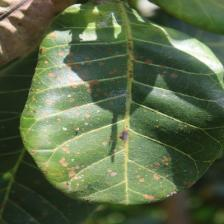red rust: (50, 4, 195, 200)
